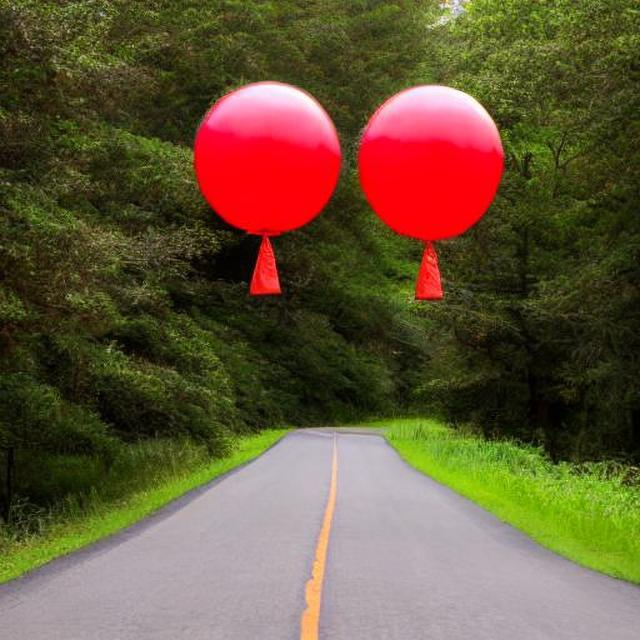balloon: (186, 82, 342, 264), (353, 85, 502, 271)
